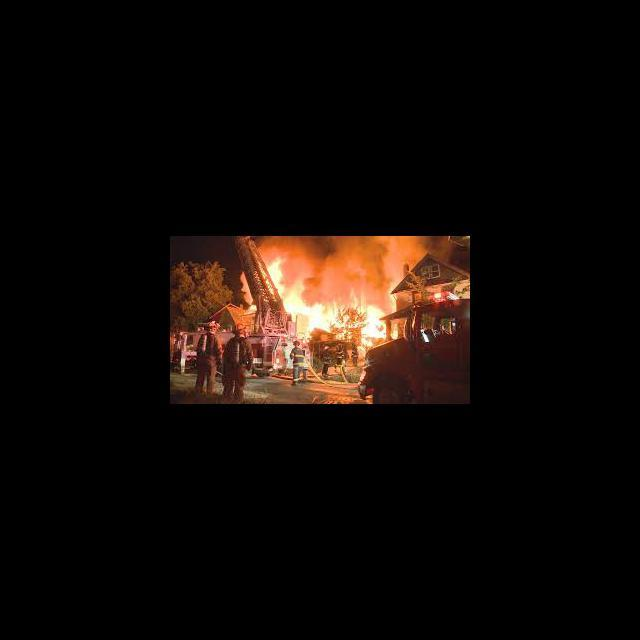Fire: (263, 257, 386, 337), (392, 320, 398, 338)
